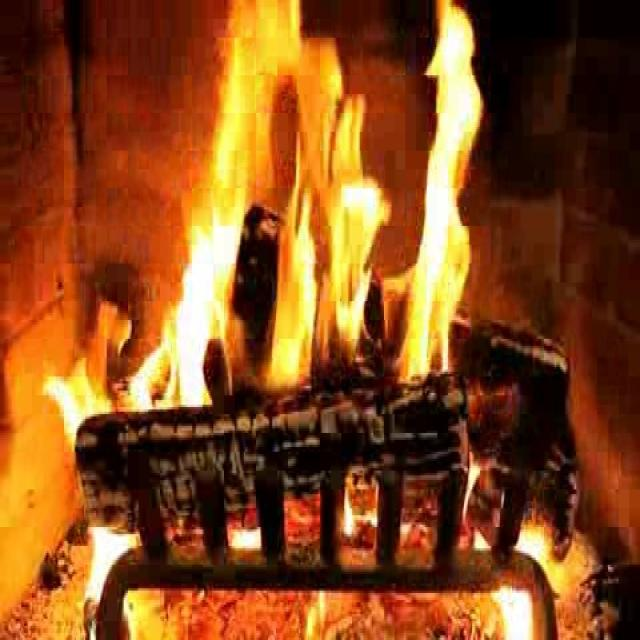fire: (154, 6, 485, 423)
